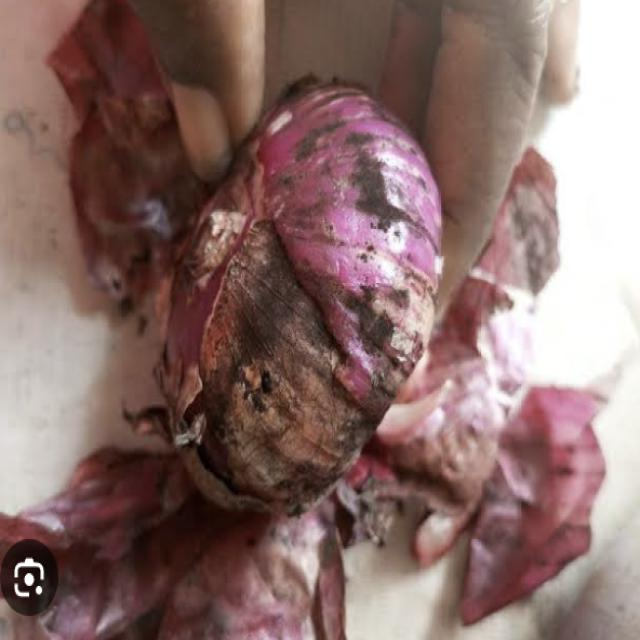mechanical_damage: (164, 82, 441, 512)
